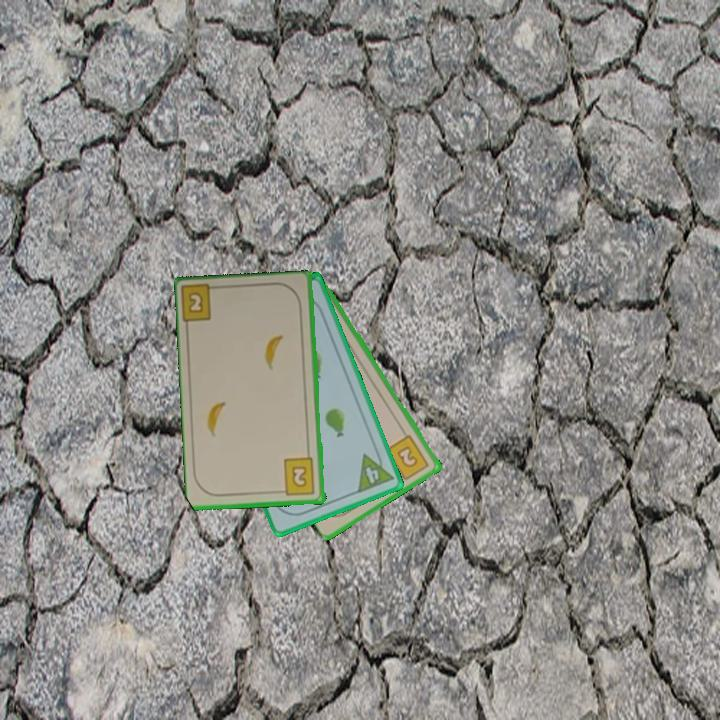2b: (383, 431, 432, 484), (179, 283, 224, 326), (276, 455, 318, 498)
4p: (354, 446, 396, 496)
